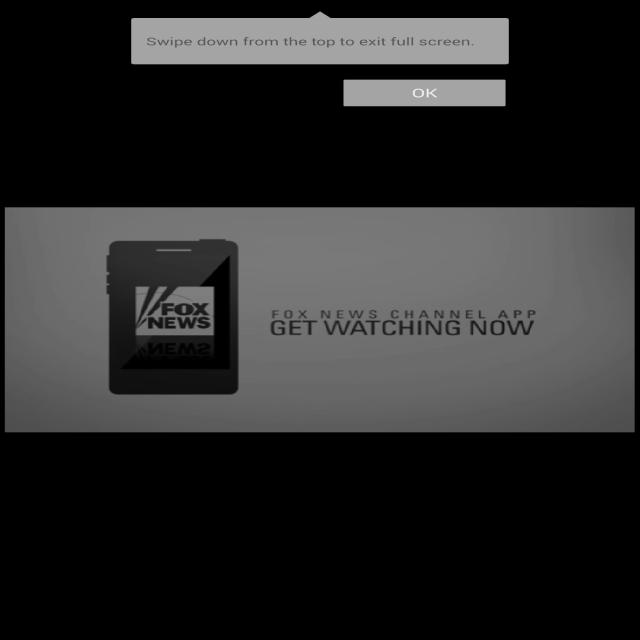ImageButton: (9, 19, 68, 61)
ImageView: (14, 70, 307, 253), (325, 467, 635, 576), (5, 266, 315, 329), (325, 266, 635, 329), (5, 467, 315, 530), (85, 33, 205, 47), (582, 226, 634, 258), (262, 428, 314, 460), (582, 428, 634, 460), (11, 428, 62, 460), (331, 428, 382, 460), (330, 226, 380, 258), (532, 226, 582, 258), (212, 428, 262, 460), (532, 428, 582, 460), (589, 24, 631, 56), (541, 32, 568, 48), (22, 232, 42, 248), (14, 308, 33, 324), (334, 308, 353, 324), (14, 508, 33, 524), (334, 554, 353, 570)
TextView: (333, 120, 626, 223), (167, 600, 640, 640), (333, 67, 626, 117), (18, 535, 302, 585), (18, 334, 302, 383), (338, 334, 622, 383), (18, 386, 302, 424), (338, 386, 622, 424), (0, 600, 166, 640), (379, 236, 538, 248), (470, 24, 520, 56), (60, 438, 218, 448), (380, 438, 538, 448), (569, 42, 576, 51)
